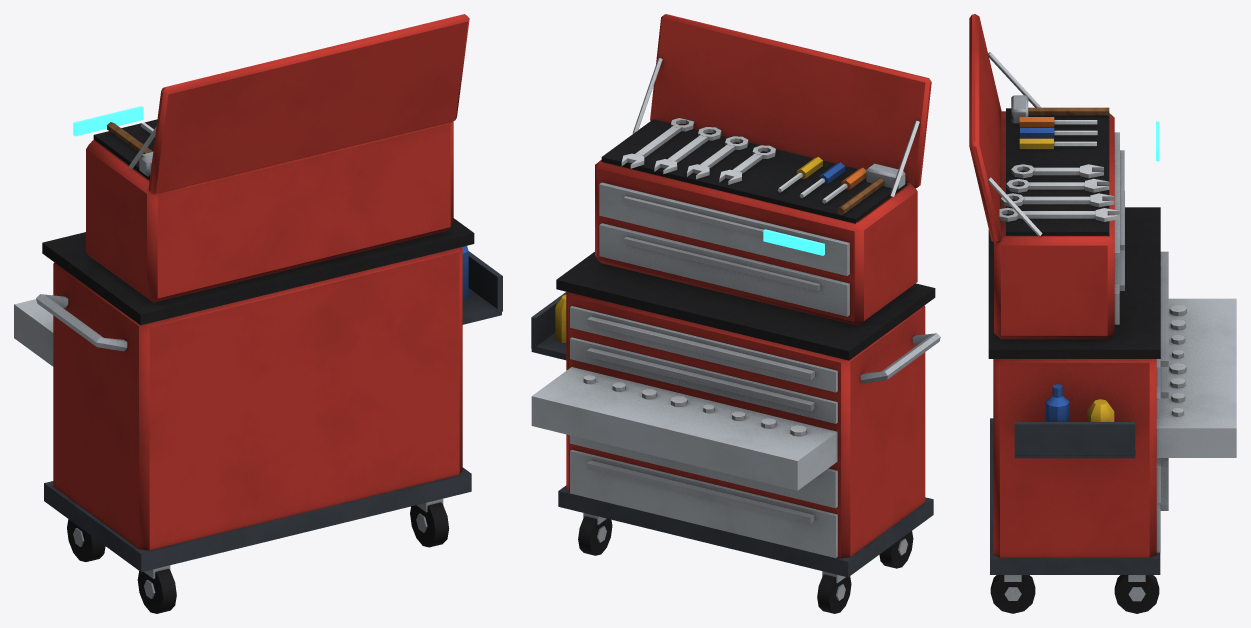
The model's file is caja_herramientas_hangar.fbx.
3 views of the same model, side by side, from view 1: azimuth 30°, elevation 25°; view 2: azimuth 150°, elevation 25°; view 3: azimuth 270°, elevation 25° (orthographic). The views are drawn at different scales.
Parts seen in each view (by area): view 1: caja_herramientas_hangar, caja_herramientas_hangar_tapa, caja_herramientas_hangar_cajon_3, caja_herramientas_hangar_neon; view 2: caja_herramientas_hangar, caja_herramientas_hangar_tapa, caja_herramientas_hangar_cajon_3, caja_herramientas_hangar_cajon_1, caja_herramientas_hangar_cajon_cofre_1, caja_herramientas_hangar_cajon_cofre_2, caja_herramientas_hangar_cajon_4, caja_herramientas_hangar_cajon_5, caja_herramientas_hangar_cajon_2, caja_herramientas_hangar_neon; view 3: caja_herramientas_hangar, caja_herramientas_hangar_cajon_3, caja_herramientas_hangar_tapa, caja_herramientas_hangar_cajon_cofre_2, caja_herramientas_hangar_cajon_5, caja_herramientas_hangar_cajon_1, caja_herramientas_hangar_cajon_cofre_1, caja_herramientas_hangar_cajon_4.
Boxes of the visible parts, x1,y1,x2,y2 form: caja_herramientas_hangar: (36, 119, 502, 613); caja_herramientas_hangar_tapa: (148, 14, 469, 194); caja_herramientas_hangar_cajon_3: (14, 295, 53, 366); caja_herramientas_hangar_neon: (73, 106, 143, 136); caja_herramientas_hangar: (531, 58, 940, 613); caja_herramientas_hangar_tapa: (650, 14, 931, 188); caja_herramientas_hangar_cajon_3: (531, 367, 837, 490); caja_herramientas_hangar_cajon_1: (570, 449, 837, 558); caja_herramientas_hangar_cajon_cofre_1: (599, 223, 849, 316); caja_herramientas_hangar_cajon_cofre_2: (599, 182, 849, 275); caja_herramientas_hangar_cajon_4: (570, 337, 837, 423); caja_herramientas_hangar_cajon_5: (570, 306, 837, 392); caja_herramientas_hangar_cajon_2: (569, 435, 837, 508); caja_herramientas_hangar_neon: (763, 229, 824, 255); caja_herramientas_hangar: (988, 52, 1160, 613); caja_herramientas_hangar_cajon_3: (1156, 298, 1236, 457); caja_herramientas_hangar_tapa: (969, 14, 1001, 243); caja_herramientas_hangar_cajon_cofre_2: (1114, 132, 1124, 284); caja_herramientas_hangar_cajon_5: (1156, 251, 1168, 387); caja_herramientas_hangar_cajon_1: (1156, 467, 1168, 552); caja_herramientas_hangar_cajon_cofre_1: (1114, 191, 1124, 324); caja_herramientas_hangar_cajon_4: (1156, 367, 1168, 418).
Bounding box in the file's own units: 2.36 × 3.05 × 1.55.
2 materials, 2 textured.
